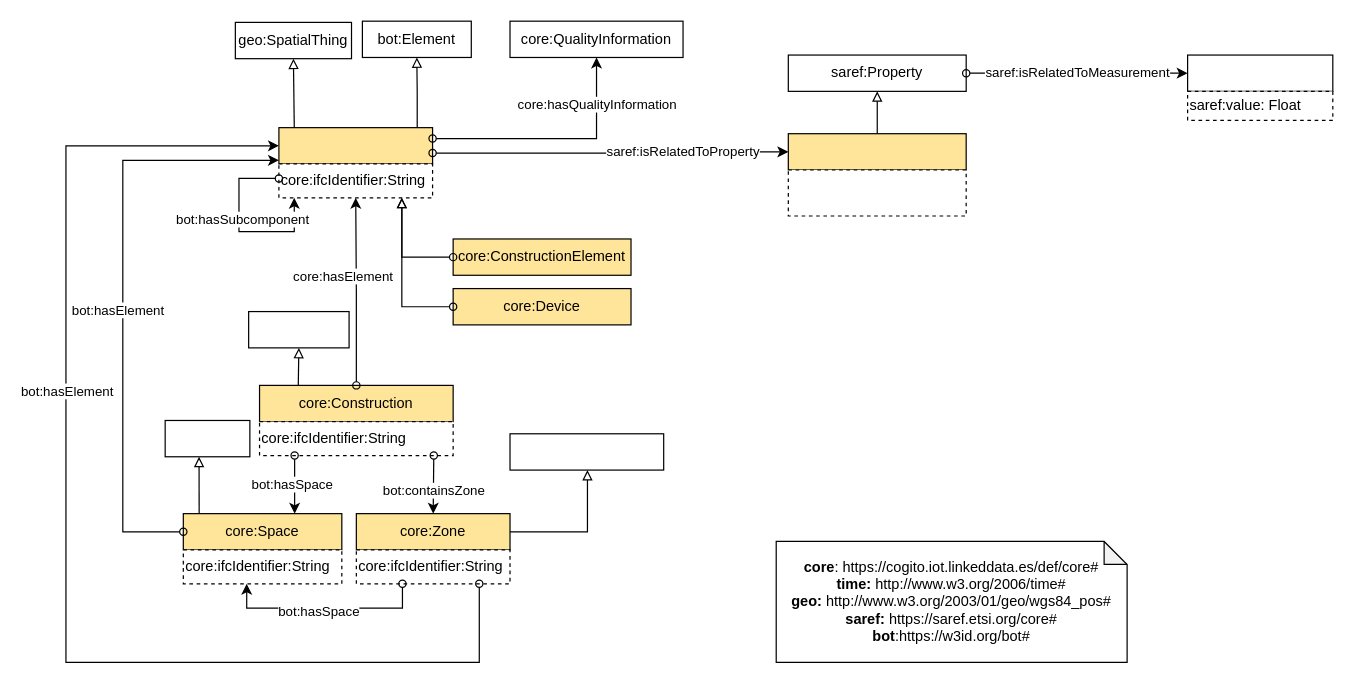
The diagram is 1354 pixels wide and 695 high, and some of its shapes have lost their labels. The shapes that lost their labels are listed below. From the top down, each one's box as (x1, y1, x2, y2) in pixels, then its label:
(1186, 54, 1333, 91): saref:Measurement
(278, 126, 433, 164): core:Element
(787, 132, 966, 170): core:Property
(787, 169, 966, 216): core: ifcIdentifier:String core: propertyName:String
(247, 310, 349, 348): bot:Building
(164, 419, 250, 457): bot:Space
(509, 433, 664, 470): bot:Zone
